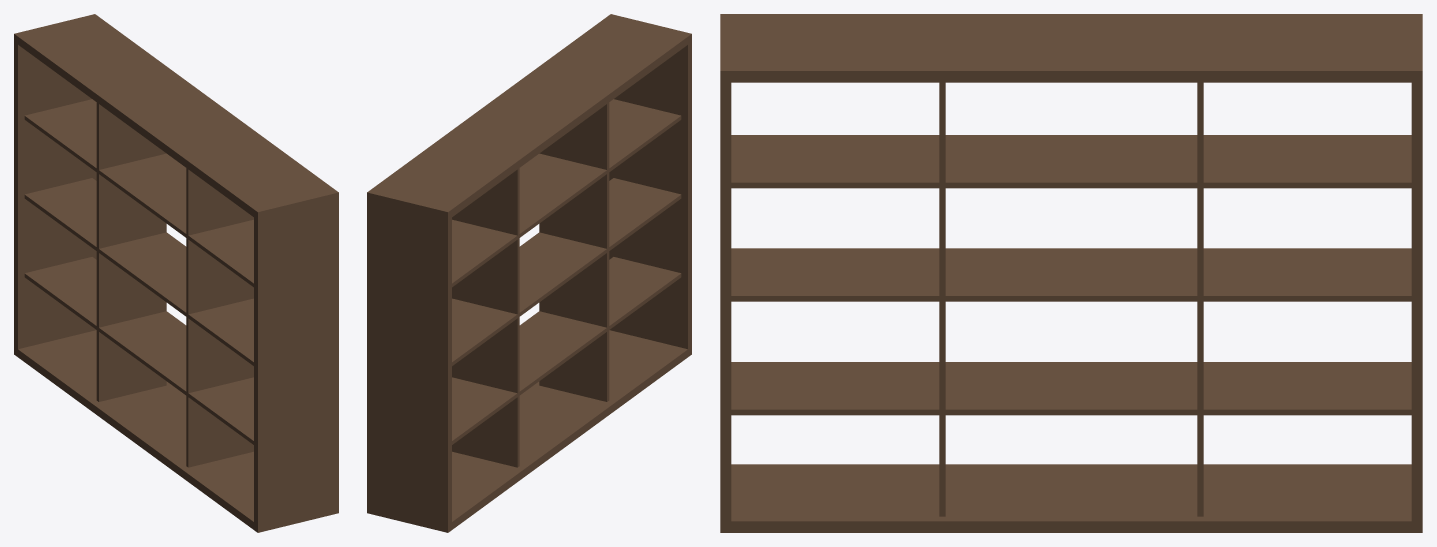
File: Estante Ret 1.fbx
The picture shows the model from 3 angles, left to right: view 1: azimuth 30°, elevation 25°; view 2: azimuth 150°, elevation 25°; view 3: azimuth 270°, elevation 25°; orthographic projection. The views are drawn at different scales.
Visible parts, largest first — view 1: Cubo.027; view 2: Cubo.027; view 3: Cubo.027.
Boxes of the visible parts, x1,y1,x2,y2 form: Cubo.027: (14,14,338,532); Cubo.027: (367,14,691,532); Cubo.027: (720,14,1422,532).
Size of the model in its own units: 163 by 617 by 850.
